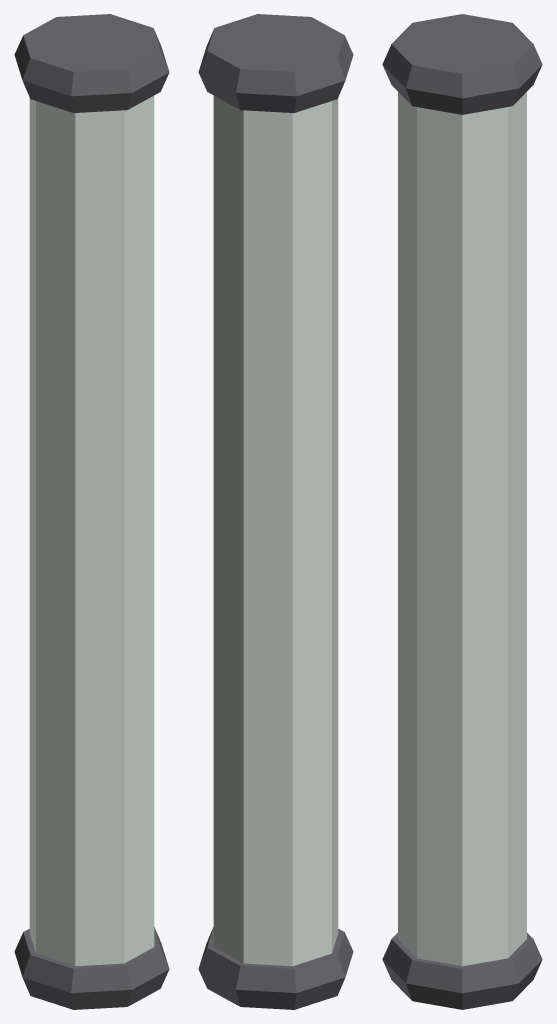
Rendered from SimpleRoundPillar.glb.
3 views of the same model, side by side, from view 1: azimuth 30°, elevation 25°; view 2: azimuth 150°, elevation 25°; view 3: azimuth 270°, elevation 25° (orthographic).
Parts seen in each view (by area): view 1: simple_round_pillar; view 2: simple_round_pillar; view 3: simple_round_pillar.
Part boxes in pixels (left/top/right/bottom): simple_round_pillar: left=14, top=14, right=169, bottom=1009; simple_round_pillar: left=198, top=14, right=353, bottom=1009; simple_round_pillar: left=382, top=14, right=542, bottom=1009.
Size of what is drawn, in the model's own units: 0.6206 by 4 by 0.6206.
1 material, 1 textured.
